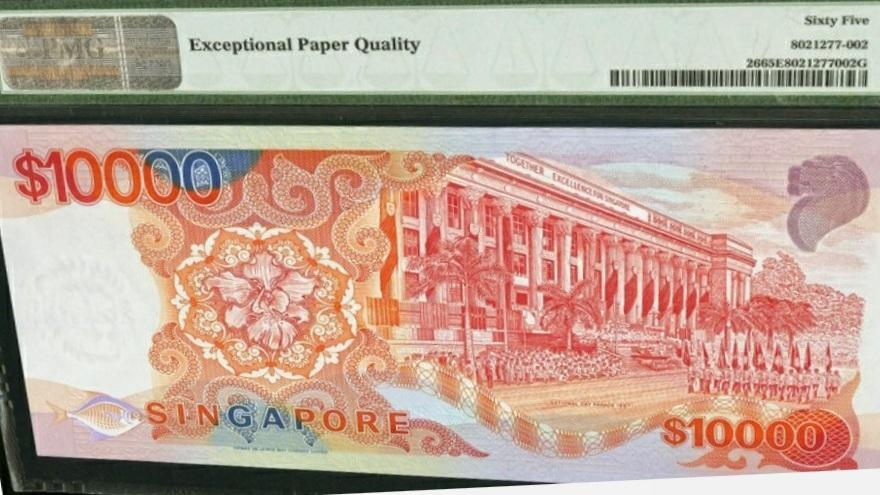10000SingaporeDollar: (15, 129, 880, 474)
